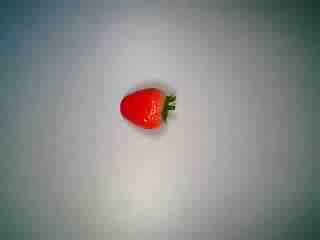strawberry: (114, 78, 182, 142)
